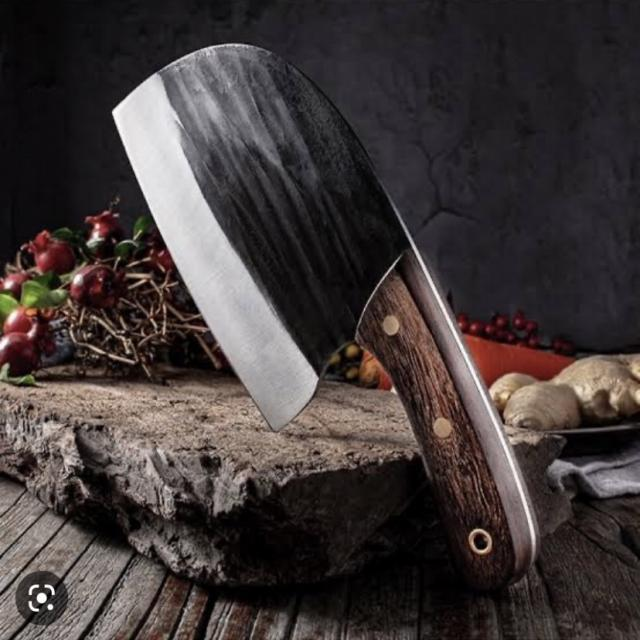Knife: (101, 26, 554, 606)
